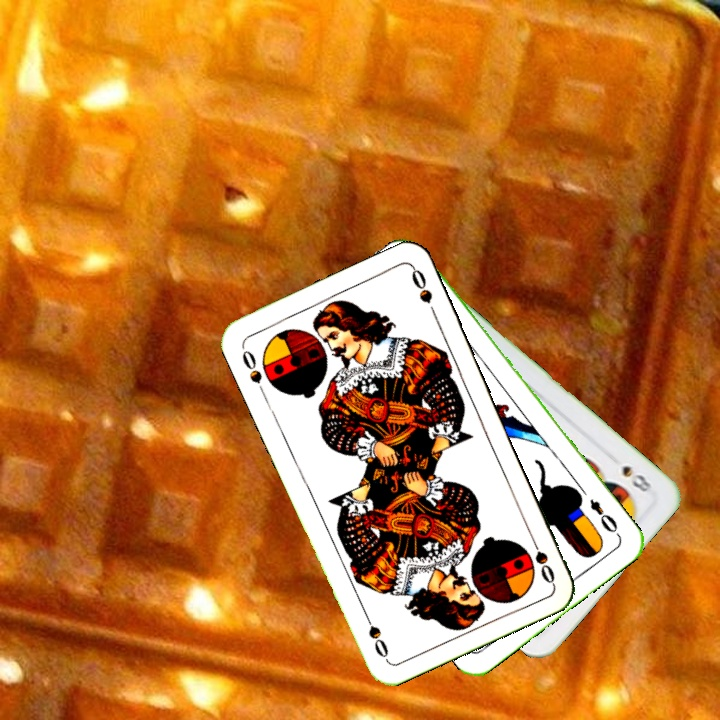EO: (585, 494, 623, 539)
S8: (617, 461, 658, 495)
SO: (525, 530, 558, 586), (237, 342, 265, 387)
